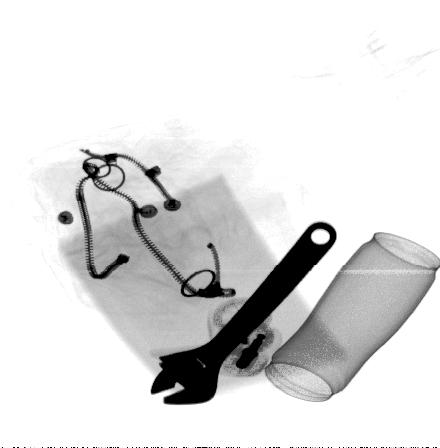Wrench: (149, 222, 340, 404)
